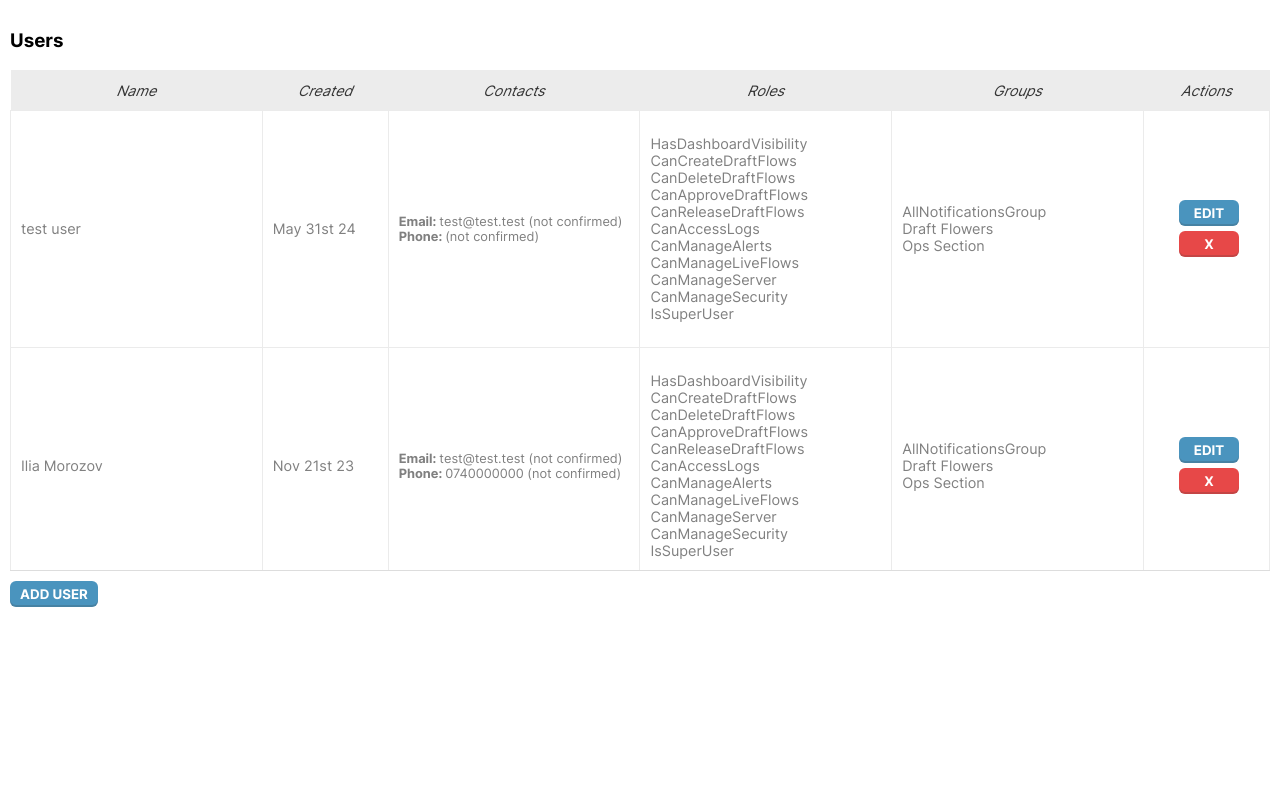
Scenario: UserTable component › renders Add User modal window on ADD USER btn click
Click the button with test id "test_add_user_btn": point(54, 594) x1=10 y1=581 x2=98 y2=607
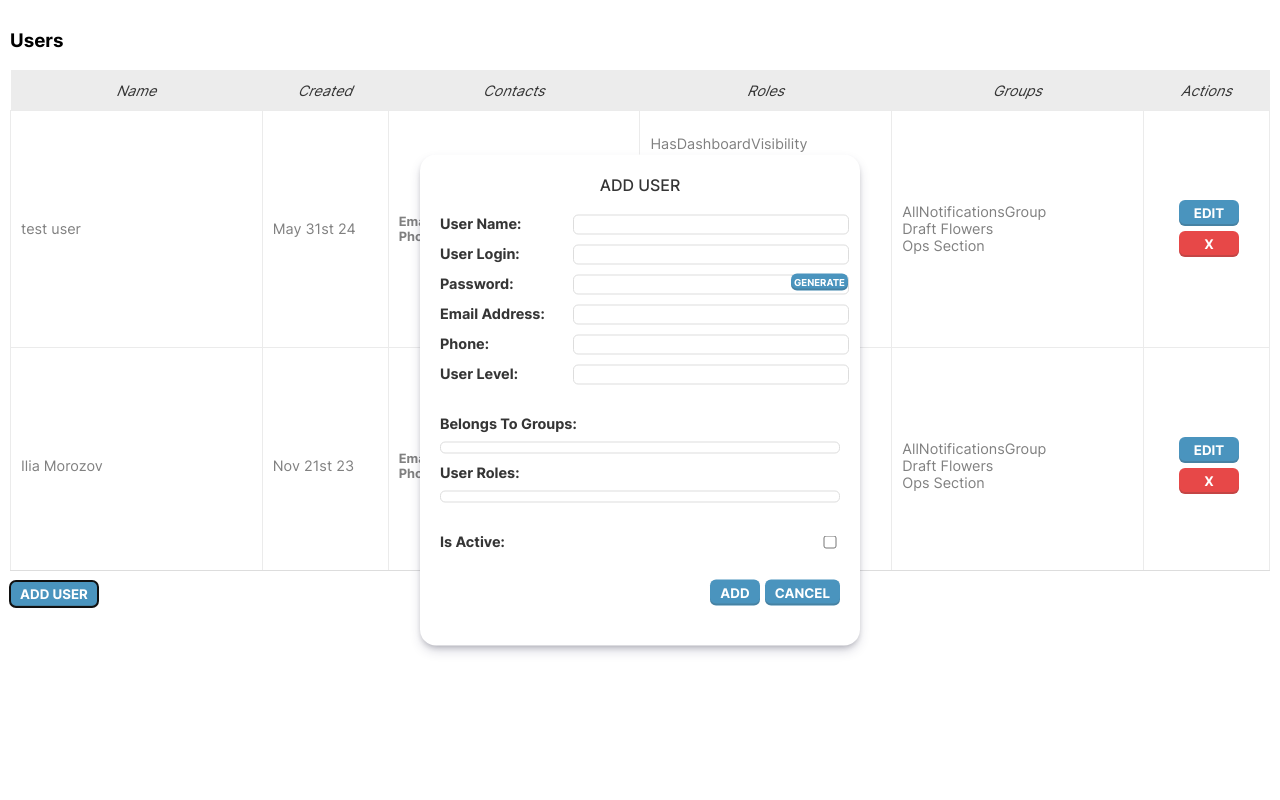
Now the button "GENERATE" is shown, box x1=791 y1=274 x2=848 y2=290
